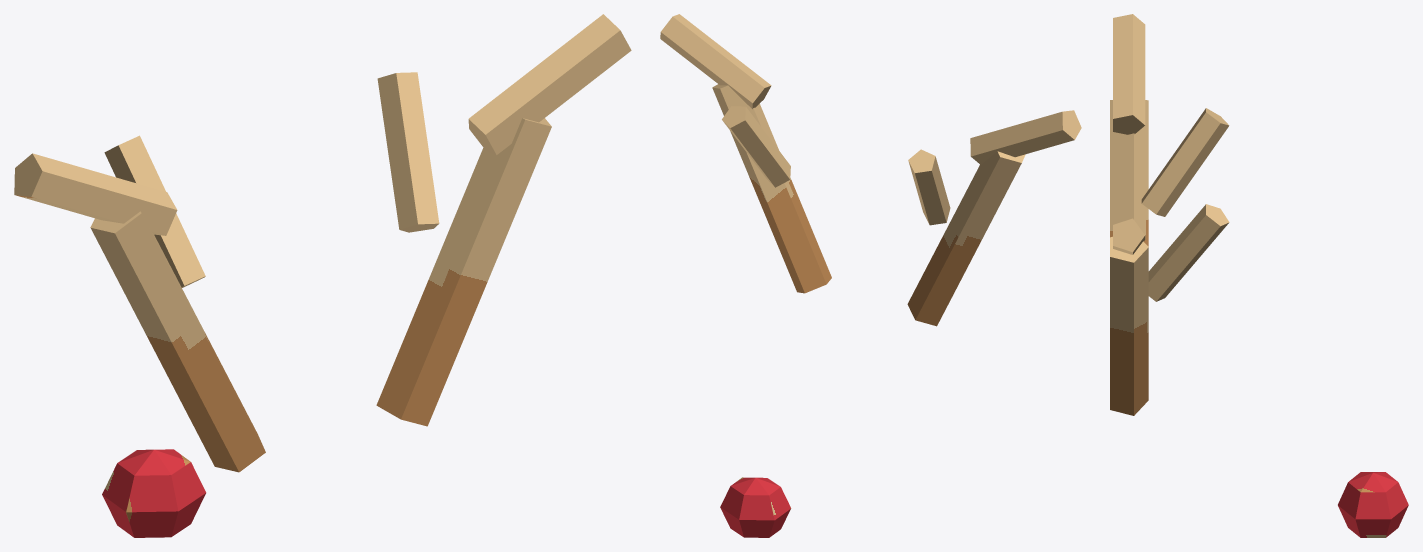
The model's file is hat_antlers.glb.
3 views of the same model, side by side, from view 1: azimuth 30°, elevation 25°; view 2: azimuth 150°, elevation 25°; view 3: azimuth 270°, elevation 25° (orthographic). The views are drawn at different scales.
Parts seen in each view (by area): view 1: hat_antlers; view 2: hat_antlers; view 3: hat_antlers.
Part boxes in pixels (<box>): hat_antlers: <box>14,14,631,537</box>; hat_antlers: <box>660,14,1081,537</box>; hat_antlers: <box>1110,14,1408,537</box>.
Size of the model in its own units: 0.722 by 0.652 by 0.4193.
Materials: 1 (1 with a texture image).
